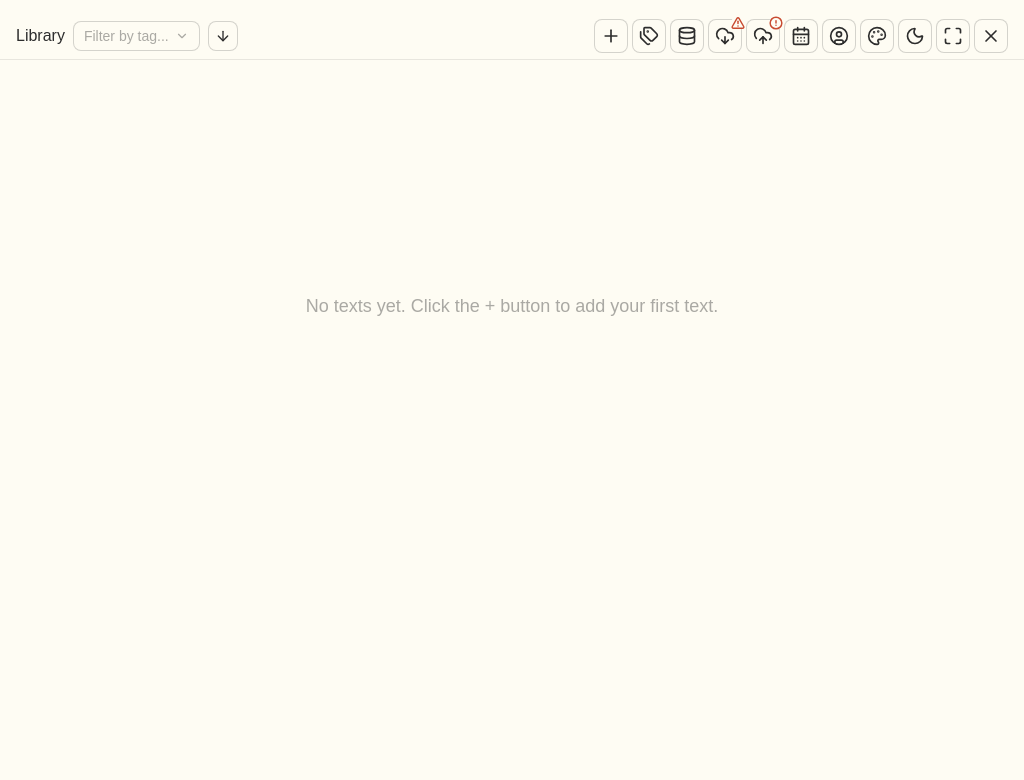
Test: Multi-Text Library Flow › US2: Add Text › cancel returns to library
The image size is (1024, 780).
What coordinates should you click on to do the following:
click the button named "add text"
I would click on:
 (611, 36)
Its box is top-left (594, 18), bottom-right (628, 52).
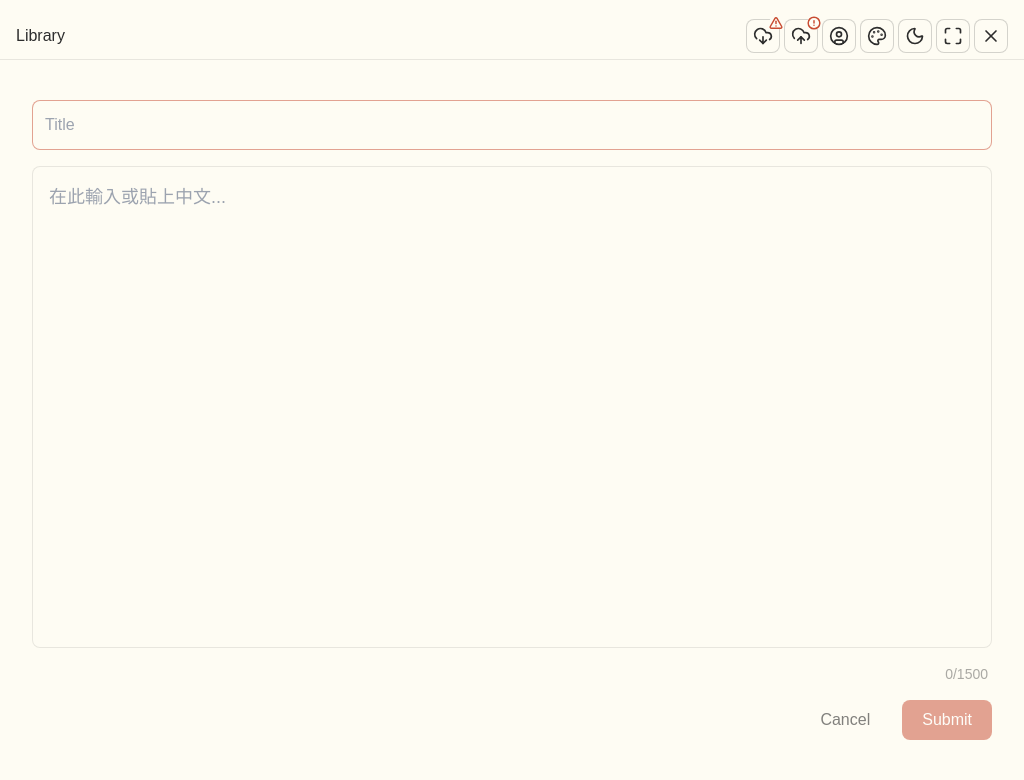
What coordinates should you click on to do the following:
click the button "Cancel"
I would click on:
 (845, 720)
Its box is top-left (800, 700), bottom-right (890, 740).
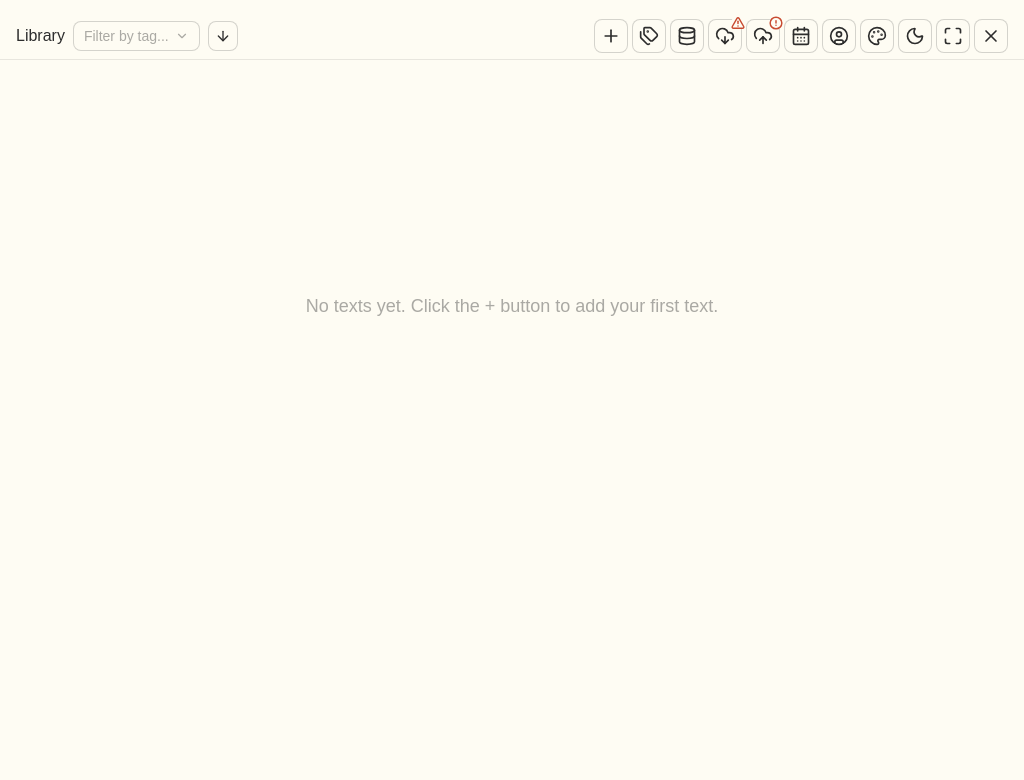
Now the text "No texts yet. Click the + button to add your first text." is shown, box top-left (306, 292), bottom-right (718, 320)
